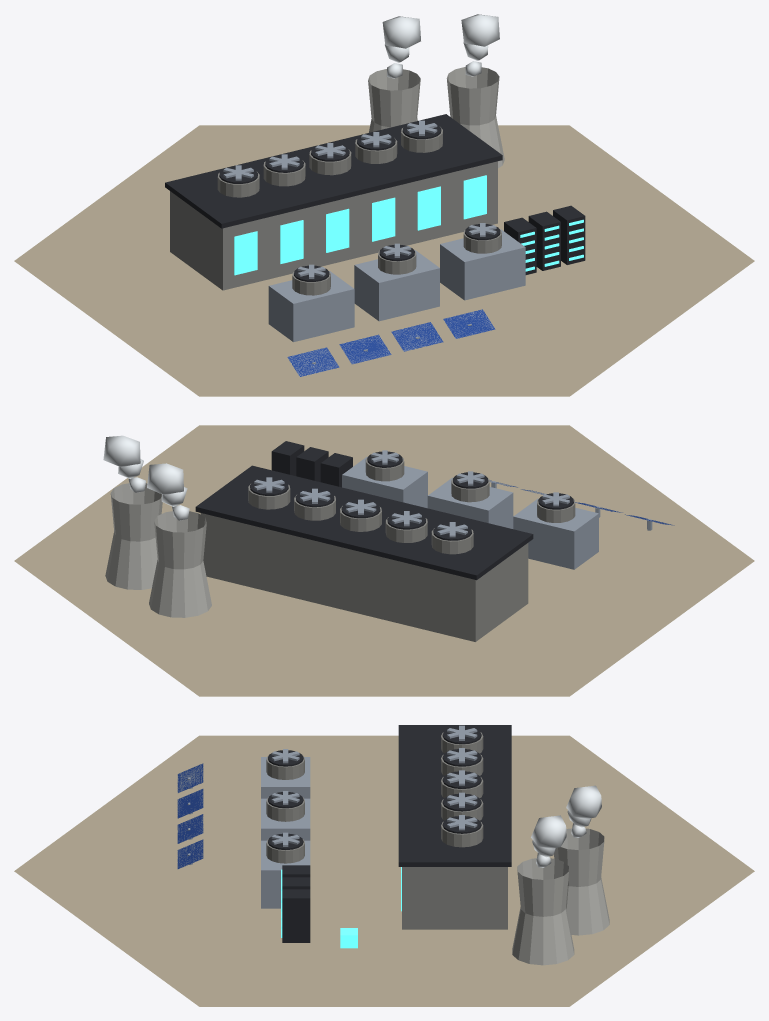
Rendered from district_datacenter_2.fbx.
The picture shows the model from 3 angles, top to bottom: view 1: azimuth 30°, elevation 25°; view 2: azimuth 150°, elevation 25°; view 3: azimuth 270°, elevation 25°; orthographic projection.
Parts seen in each view (by area): view 1: district_datacenter_2; view 2: district_datacenter_2; view 3: district_datacenter_2.
Boxes of the visible parts, x1=… form: district_datacenter_2: x1=14, y1=14, x2=754, y2=396; district_datacenter_2: x1=14, y1=425, x2=754, y2=696; district_datacenter_2: x1=14, y1=725, x2=754, y2=1006.
Bounding box in the file's own units: 182 × 44.36 × 210.
